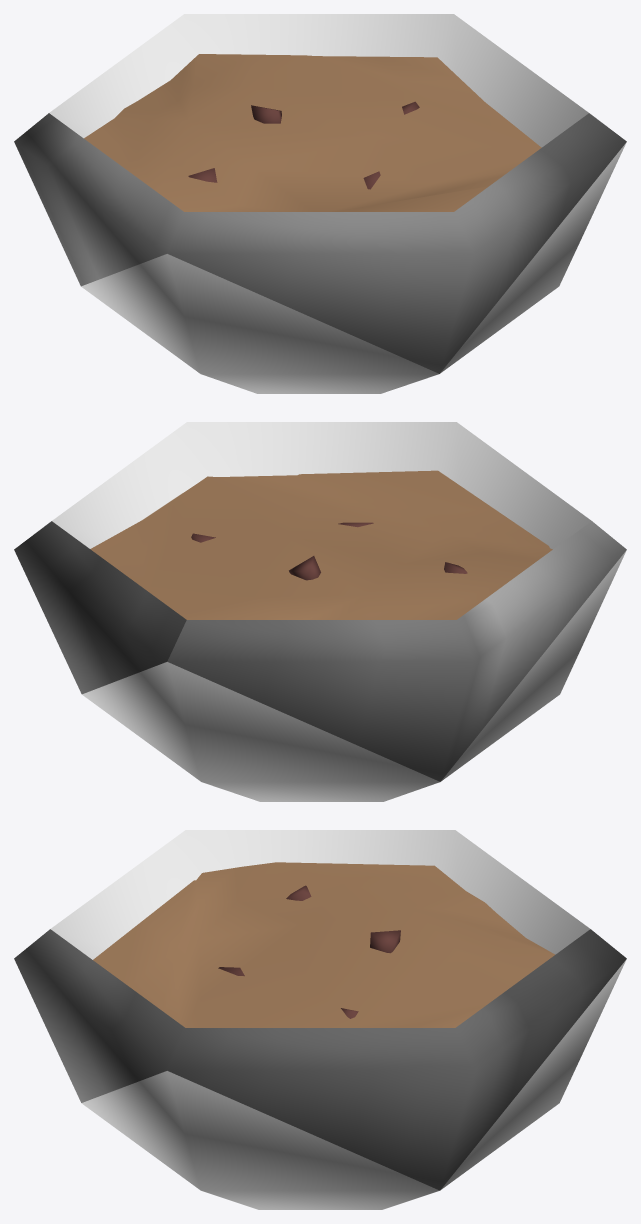
Rendered from heartyBoneBrothBowlFired.glb.
3 views of the same model, one above another, from view 1: azimuth 30°, elevation 25°; view 2: azimuth 150°, elevation 25°; view 3: azimuth 270°, elevation 25° (orthographic).
Visible parts, largest first — view 1: Cube; view 2: Cube; view 3: Cube.
Part boxes in pixels (<box>): Cube: <box>14,14,626,393</box>; Cube: <box>14,422,626,801</box>; Cube: <box>14,830,626,1209</box>.
Size of the model in its own units: 0.2467 by 0.1207 by 0.2849.
Materials: 5 (1 with a texture image).
